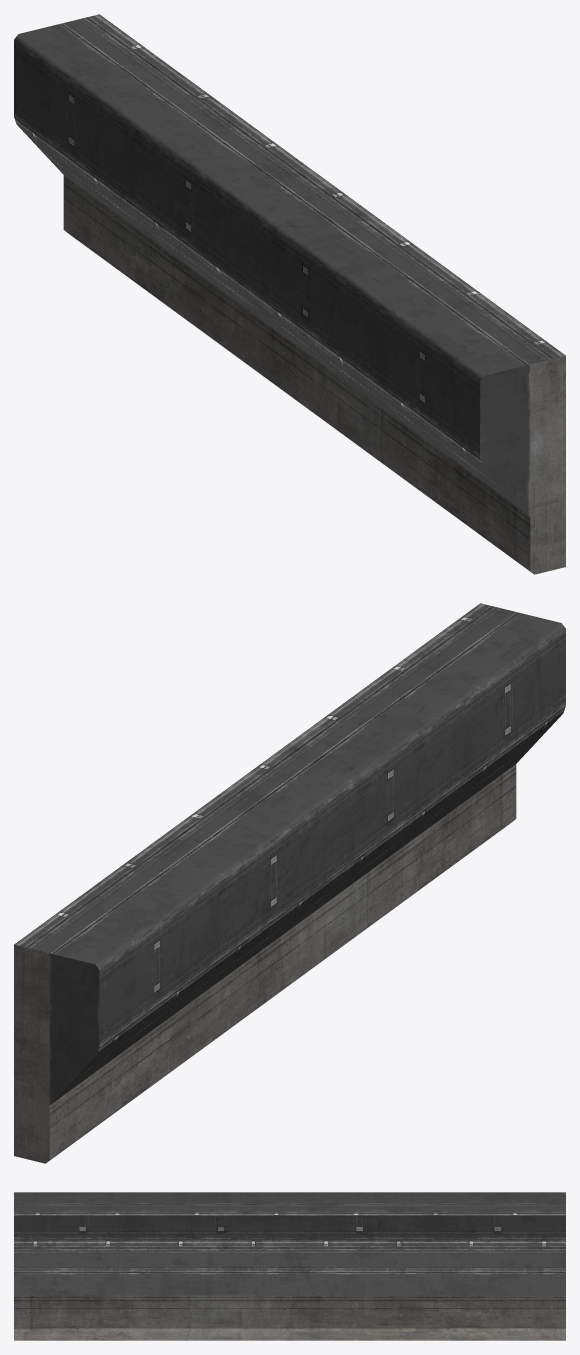
The model's file is CP_Service_Overhang_4m_01.fbx.
3 renders of one model, top to bottom at view 1: azimuth 30°, elevation 25°; view 2: azimuth 150°, elevation 25°; view 3: azimuth 270°, elevation 25°, orthographic. The views are drawn at different scales.
Visible parts, largest first — view 1: CP_Service_Overhang_4m_01; view 2: CP_Service_Overhang_4m_01; view 3: CP_Service_Overhang_4m_01.
Boxes of the visible parts, box(x1,y1,x2,y2) form: CP_Service_Overhang_4m_01: box(14, 14, 565, 574); CP_Service_Overhang_4m_01: box(14, 603, 565, 1163); CP_Service_Overhang_4m_01: box(14, 1192, 565, 1340).
Size of the model in its own units: 42.35 by 100 by 400.
